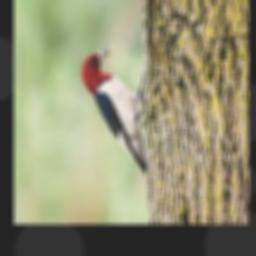Woodpecker: (81, 44, 146, 174)
